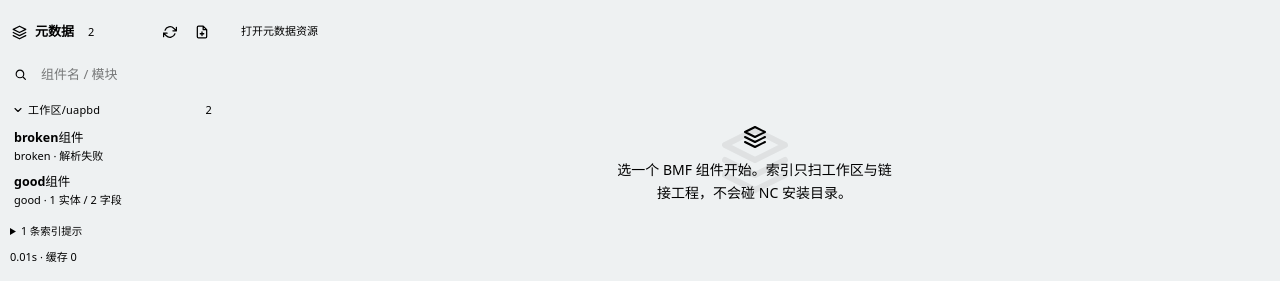
Test: 元数据页 › 坏文件被选中后，晚到的正常详情不能覆盖解析失败页
What coordinates should you click on to do the following:
click the 2nd button with class "meta-entry"
I would click on:
 (112, 190)
Its box is [6, 168, 218, 212].
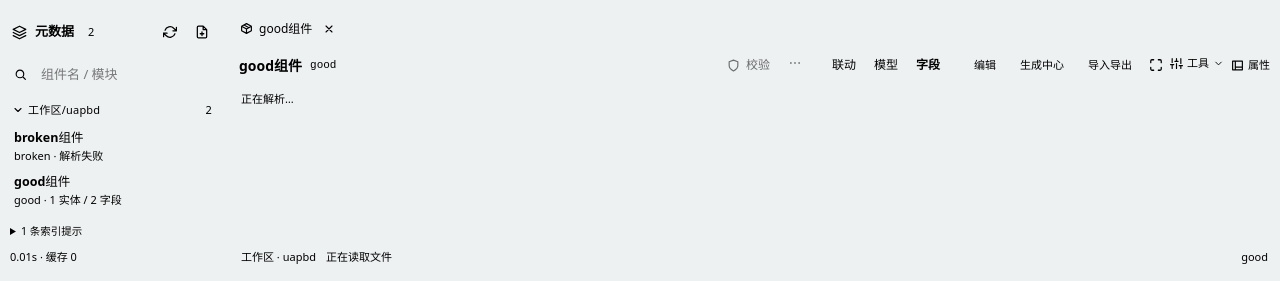
What coordinates should you click on to do the following:
click the button with class "meta-entry" showing "broken组件 broken · 解析失败"
I would click on:
 (112, 146)
Its box is [6, 124, 218, 168].
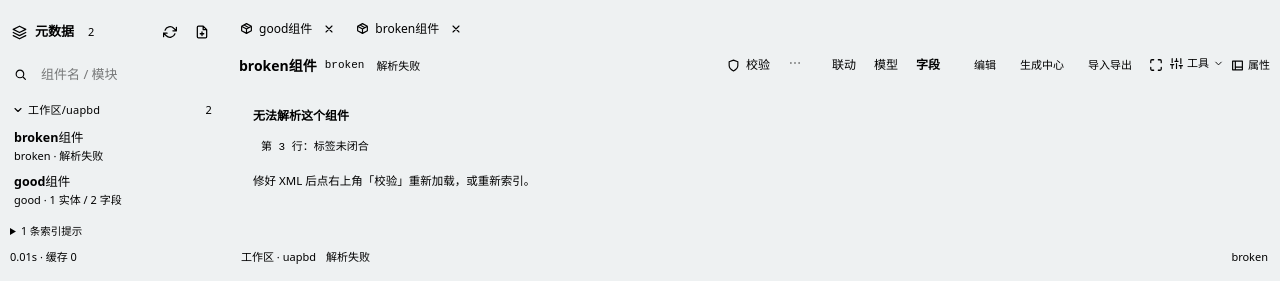
Expected: the text "无法解析这个组件" is shown, [253, 107, 349, 124]
Expected: the text "第 3 行：标签未闭合" is shown, [261, 141, 369, 153]
Expected: the heading "broken组件" is shown, [239, 54, 317, 76]
